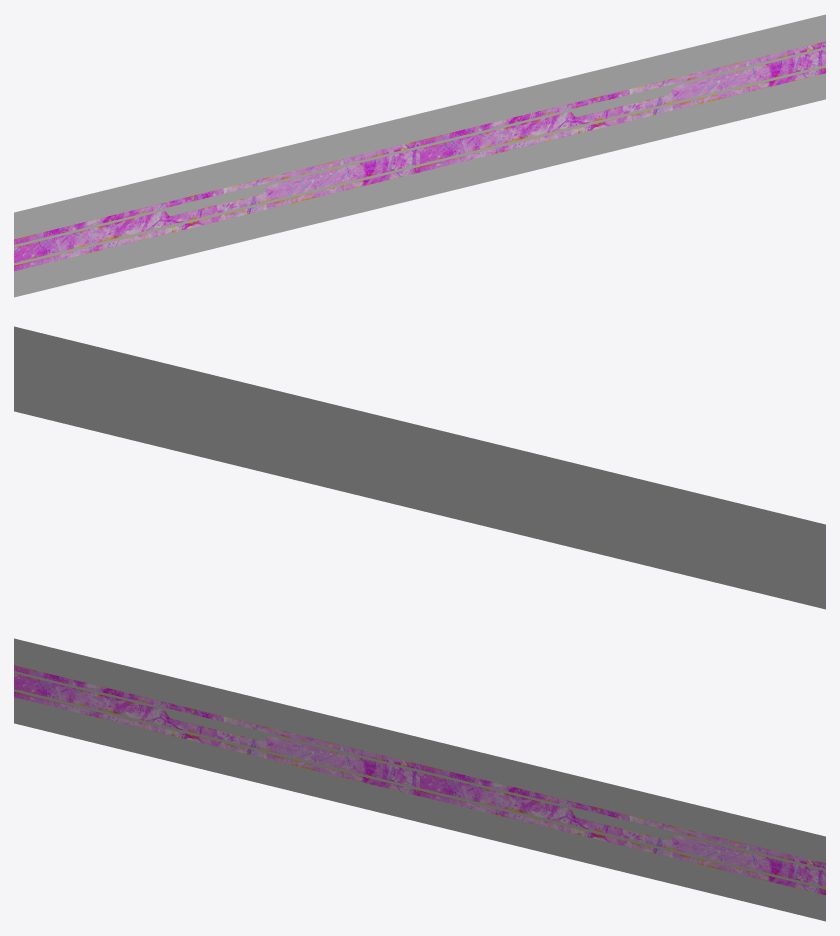
The model's file is wall_04_10x1_f.fbx.
3 renders of one model, top to bottom at view 1: azimuth 30°, elevation 25°; view 2: azimuth 150°, elevation 25°; view 3: azimuth 330°, elevation 25°, orthographic.
Parts seen in each view (by area): view 1: Plane.528, Plane.529; view 2: Plane.528; view 3: Plane.528, Plane.529.
Boxes of the visible parts, x1,y1,x2,y2 form: Plane.528: [14, 14, 825, 297]; Plane.529: [14, 41, 825, 271]; Plane.528: [14, 326, 825, 609]; Plane.528: [14, 638, 825, 921]; Plane.529: [14, 665, 825, 895].
Bounding box in the file's own units: 10 × 1 × 0.001.
